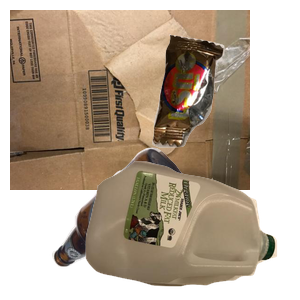cardboard: (10, 10, 250, 190)
glass: (49, 145, 229, 300)
plastic: (83, 159, 300, 300)
trash: (150, 32, 300, 172)
